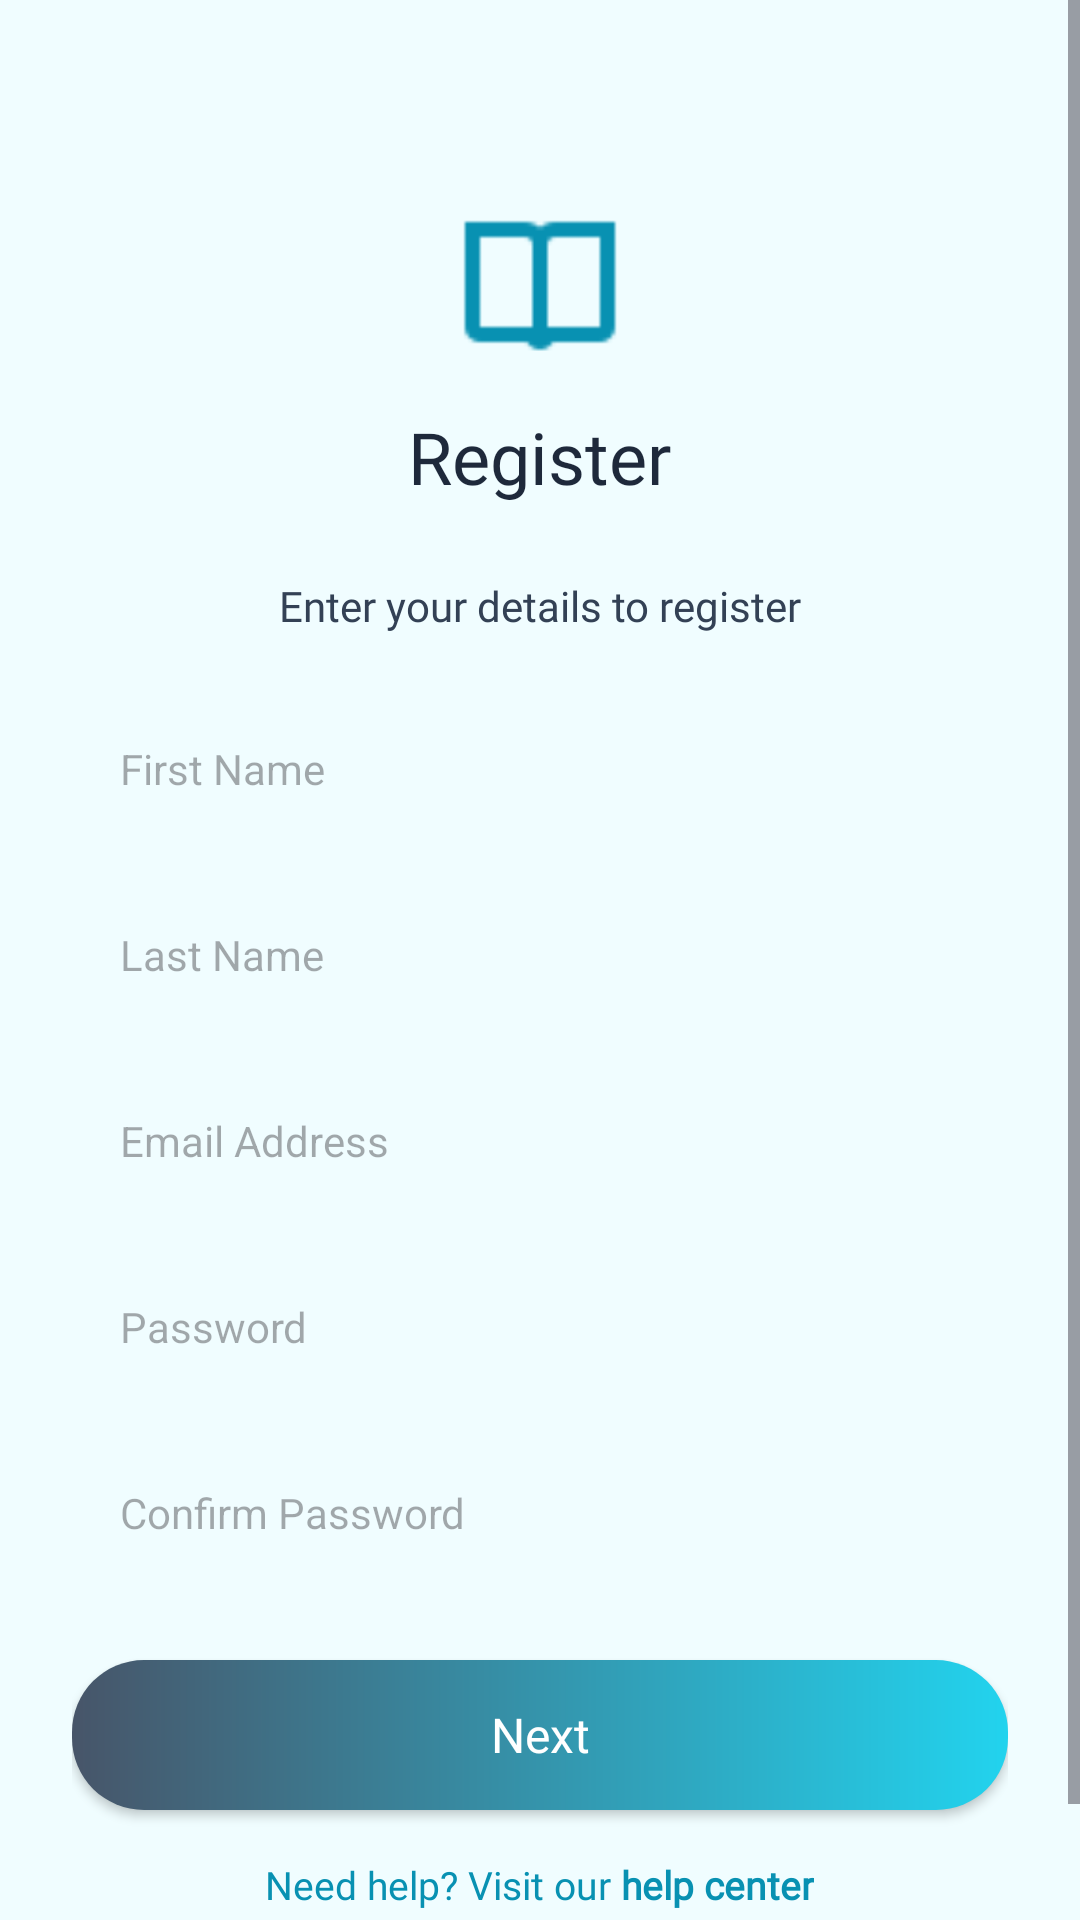

Locate icon controls on the screen. Image size 1080w x 1920h, boxes as box(x1, y1, x2, y2).
book: box(464, 221, 616, 351)
